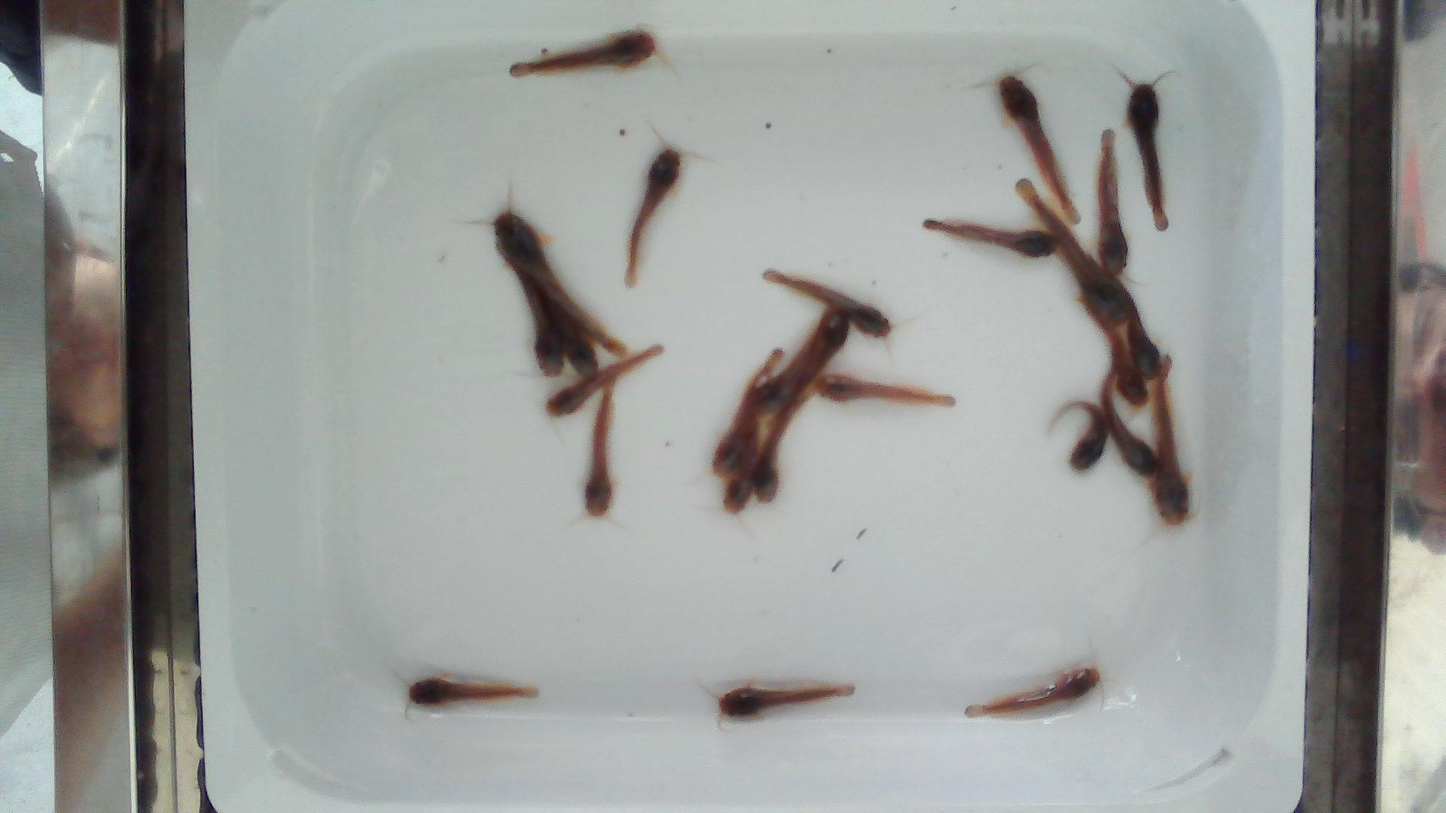lele: (496, 215, 626, 356), (1017, 178, 1128, 325), (998, 75, 1079, 224), (713, 347, 783, 479), (495, 246, 565, 377), (763, 269, 892, 337), (547, 345, 665, 418), (1079, 289, 1150, 408), (624, 142, 682, 287), (756, 314, 828, 416), (530, 273, 599, 378), (510, 29, 657, 77), (753, 386, 812, 504), (1100, 364, 1157, 477), (781, 313, 850, 406), (1153, 354, 1189, 526), (1127, 84, 1168, 230), (923, 219, 1056, 257), (1094, 129, 1128, 277), (1114, 278, 1163, 379), (977, 666, 1097, 706), (814, 373, 954, 406), (718, 684, 854, 716), (408, 675, 538, 707), (584, 388, 614, 516), (723, 419, 763, 512), (1061, 401, 1104, 472)
